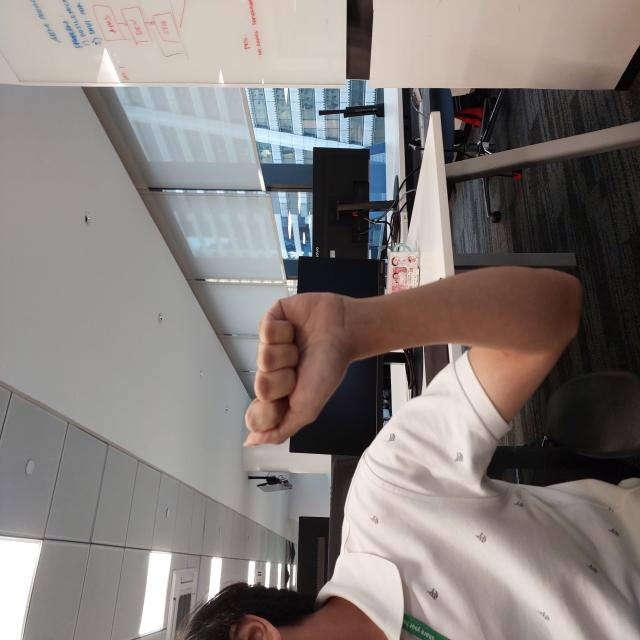A: (188, 240, 350, 349)
